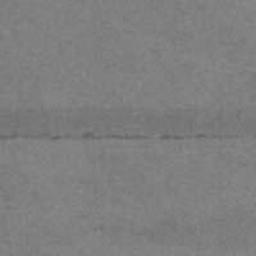Oil spot: (0, 132, 245, 140)
